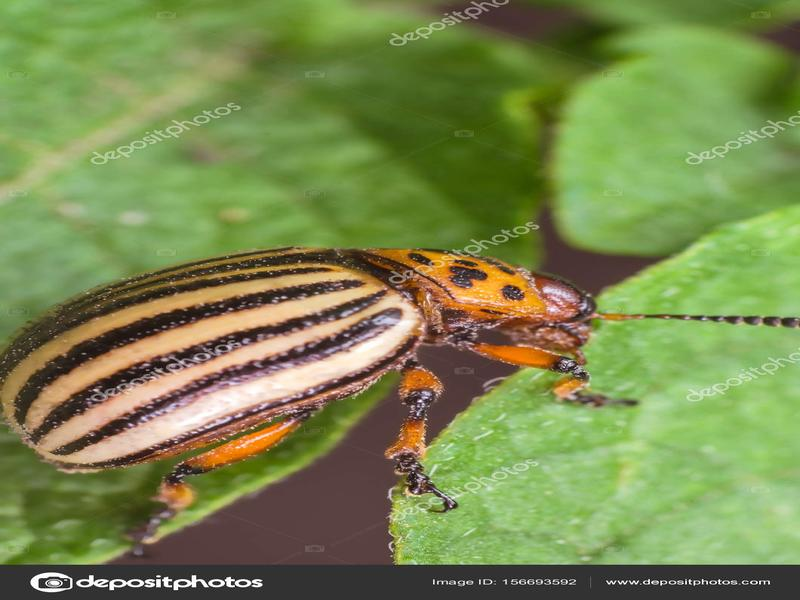hrosc: (17, 236, 603, 500)
